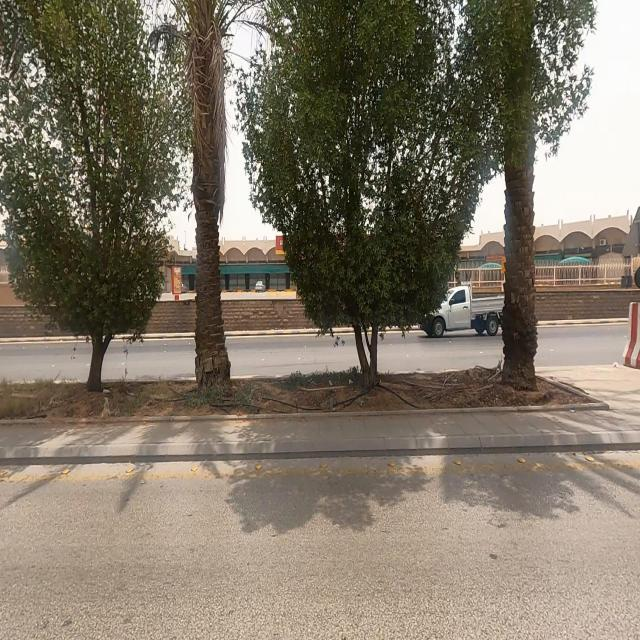debris: (302, 358, 446, 424), (80, 366, 130, 456)
